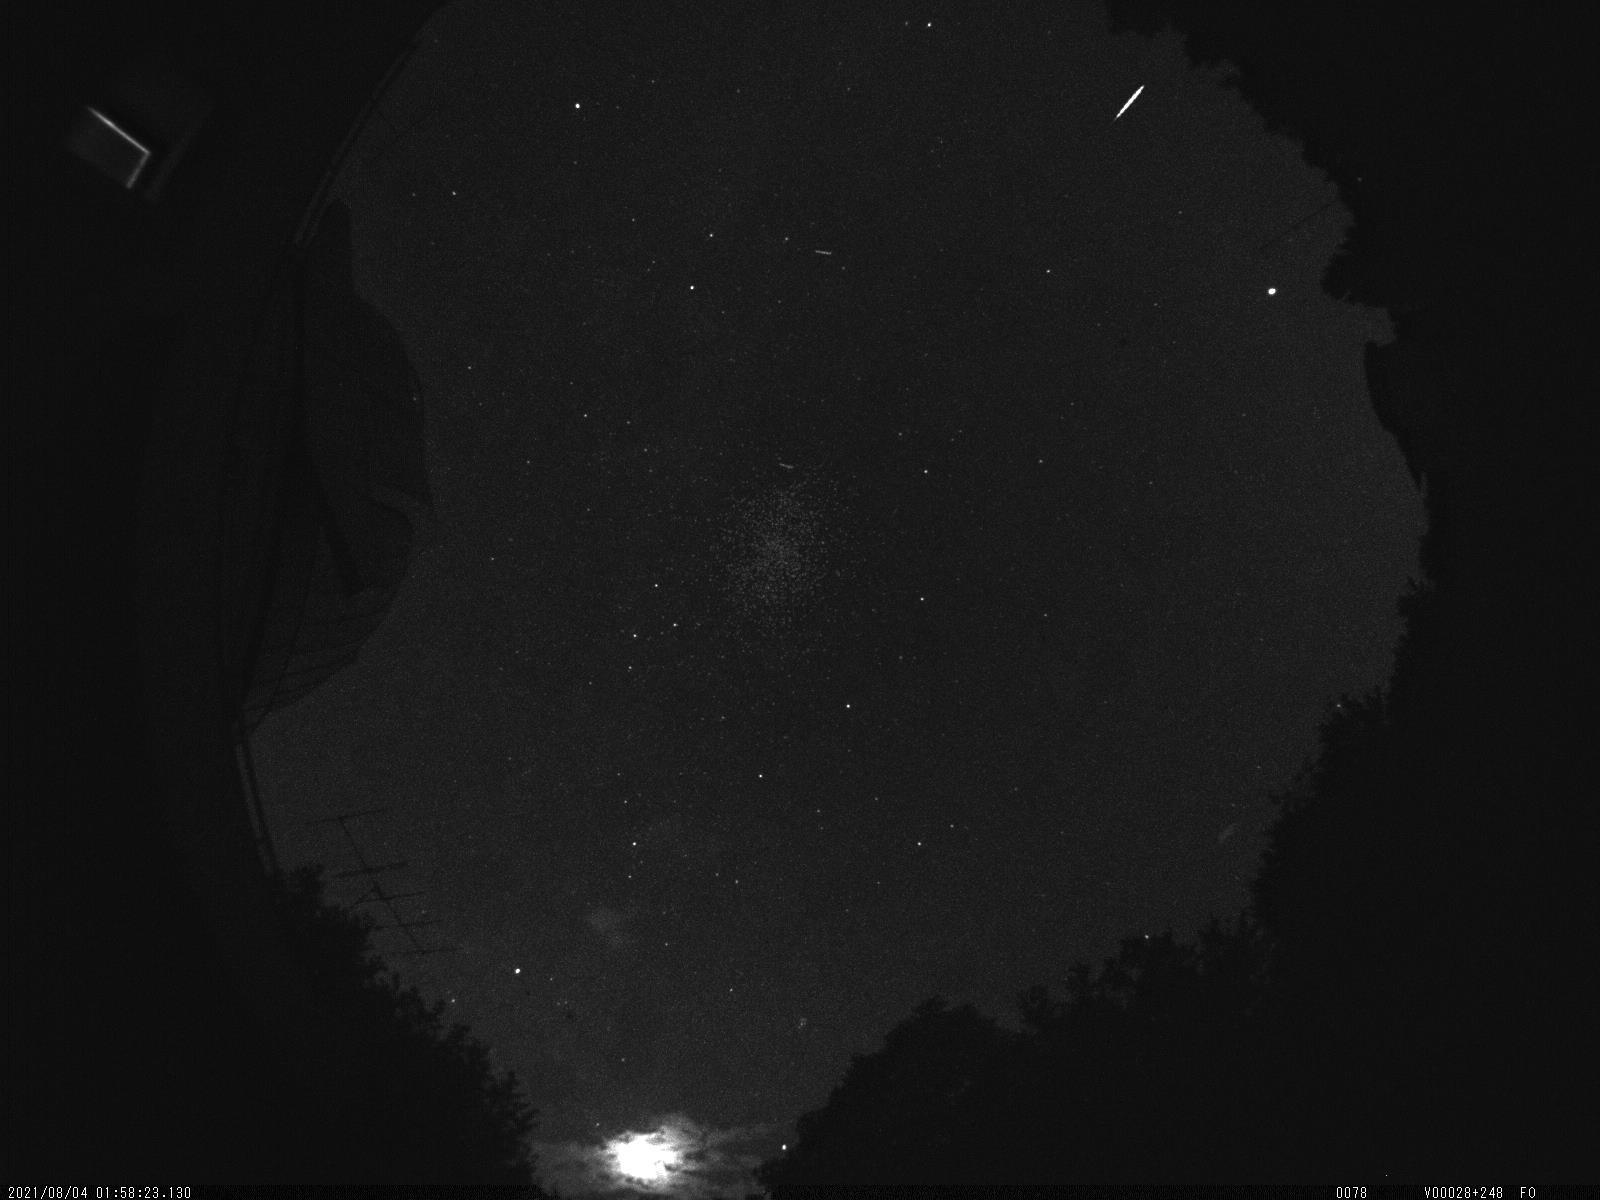Meteor: (1108, 79, 1150, 127)
